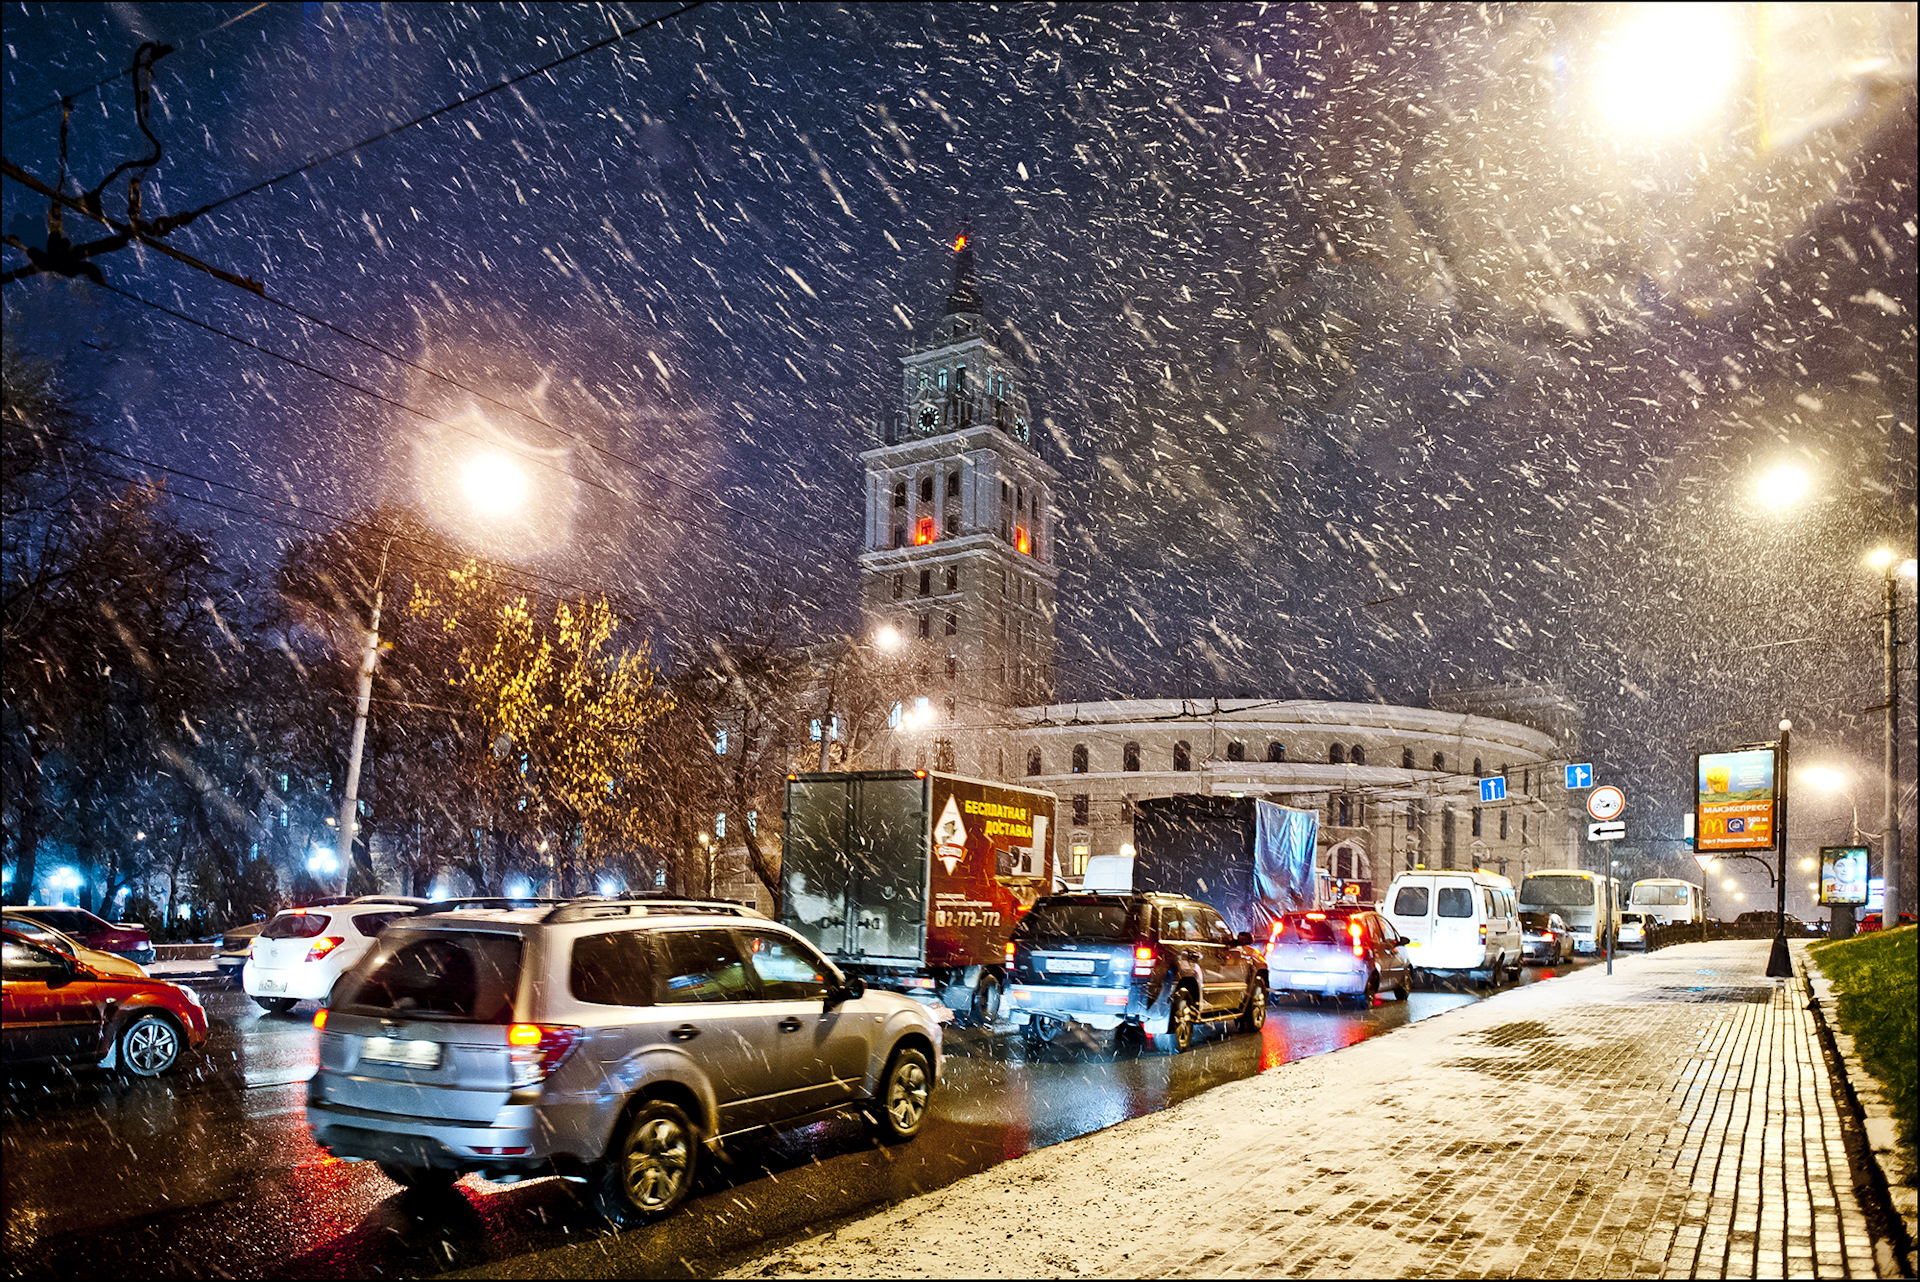sign: (1587, 783, 1625, 820), (1562, 760, 1594, 791), (1478, 774, 1508, 803), (1587, 820, 1627, 841)
